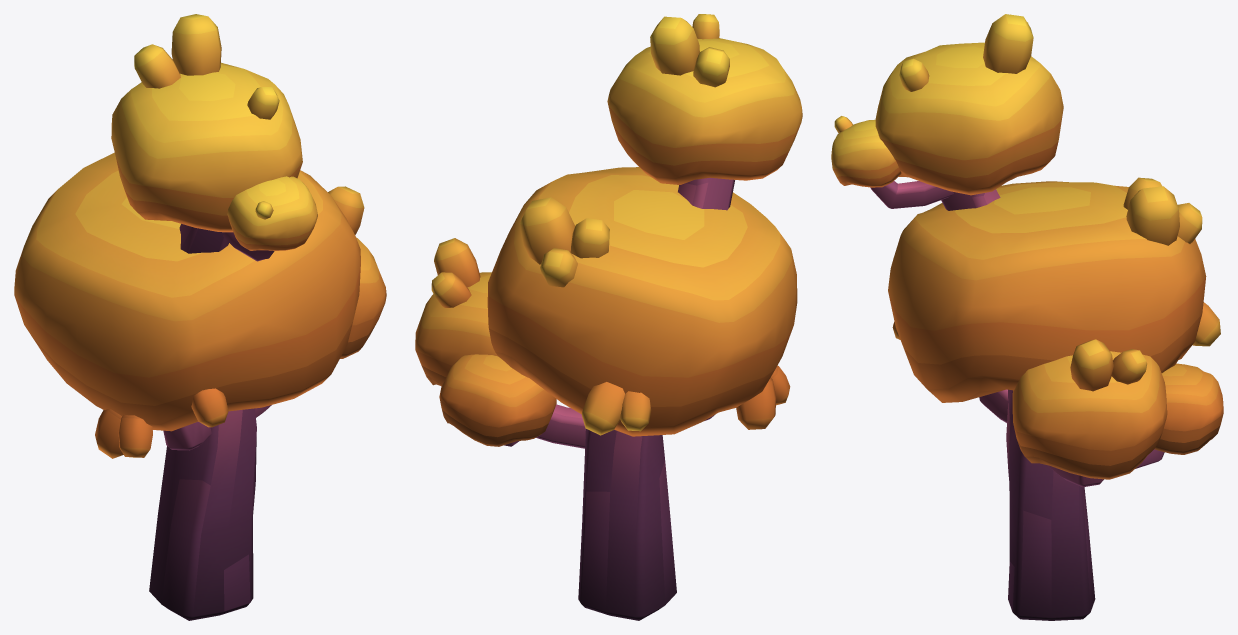
Rendered from grassland_tree_col2_7.fbx.
The picture shows the model from 3 angles, left to right: view 1: azimuth 30°, elevation 25°; view 2: azimuth 150°, elevation 25°; view 3: azimuth 270°, elevation 25°; orthographic projection. The views are drawn at different scales.
Parts seen in each view (by area): view 1: grassland_tree_col2_7; view 2: grassland_tree_col2_7; view 3: grassland_tree_col2_7.
Part boxes in pixels (x1=…): grassland_tree_col2_7: x1=14, y1=14, x2=386, y2=620; grassland_tree_col2_7: x1=415, y1=14, x2=802, y2=620; grassland_tree_col2_7: x1=831, y1=14, x2=1223, y2=620.
Size of the model in its own units: 701 by 1182 by 729.
1 material, 1 textured.
